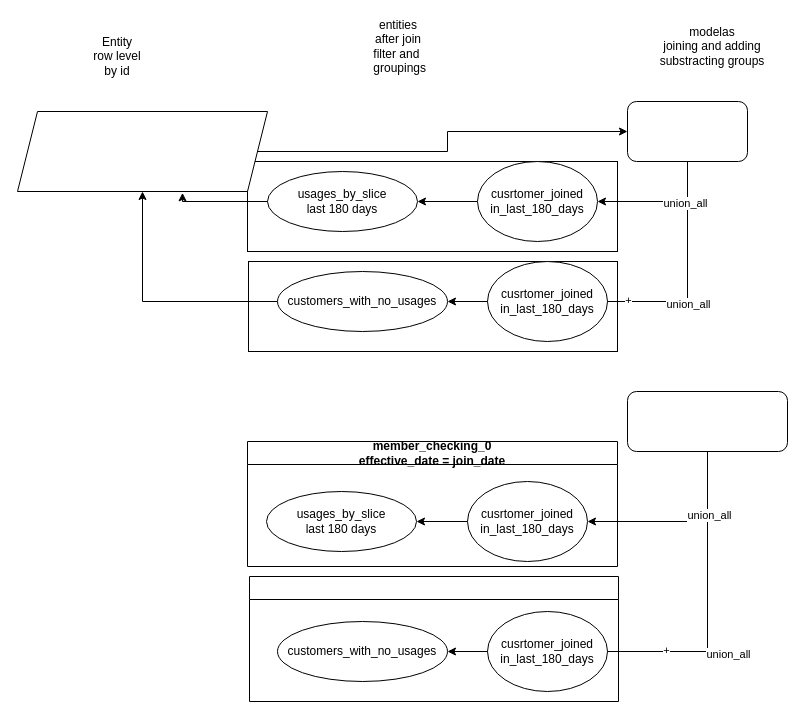
The diagram is 805 pixels wide and 719 high, and some of its shapes have lost their labels. The centre of each missing label's shape, as x and y in pixels:
FACT_MEMBER_USAGE_UNIQUE fks{ entity=[fk1,fk2] entity2=[fk2,fk2] }: pixel 142 151
member_checkins_0: pixel 707 421
usages_sum: pixel 687 131
